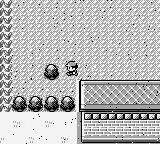captura: (0, 0, 12, 112)
main: (65, 61, 78, 76)
no-caminable: (80, 81, 158, 143), (12, 96, 76, 111), (44, 64, 59, 80)
